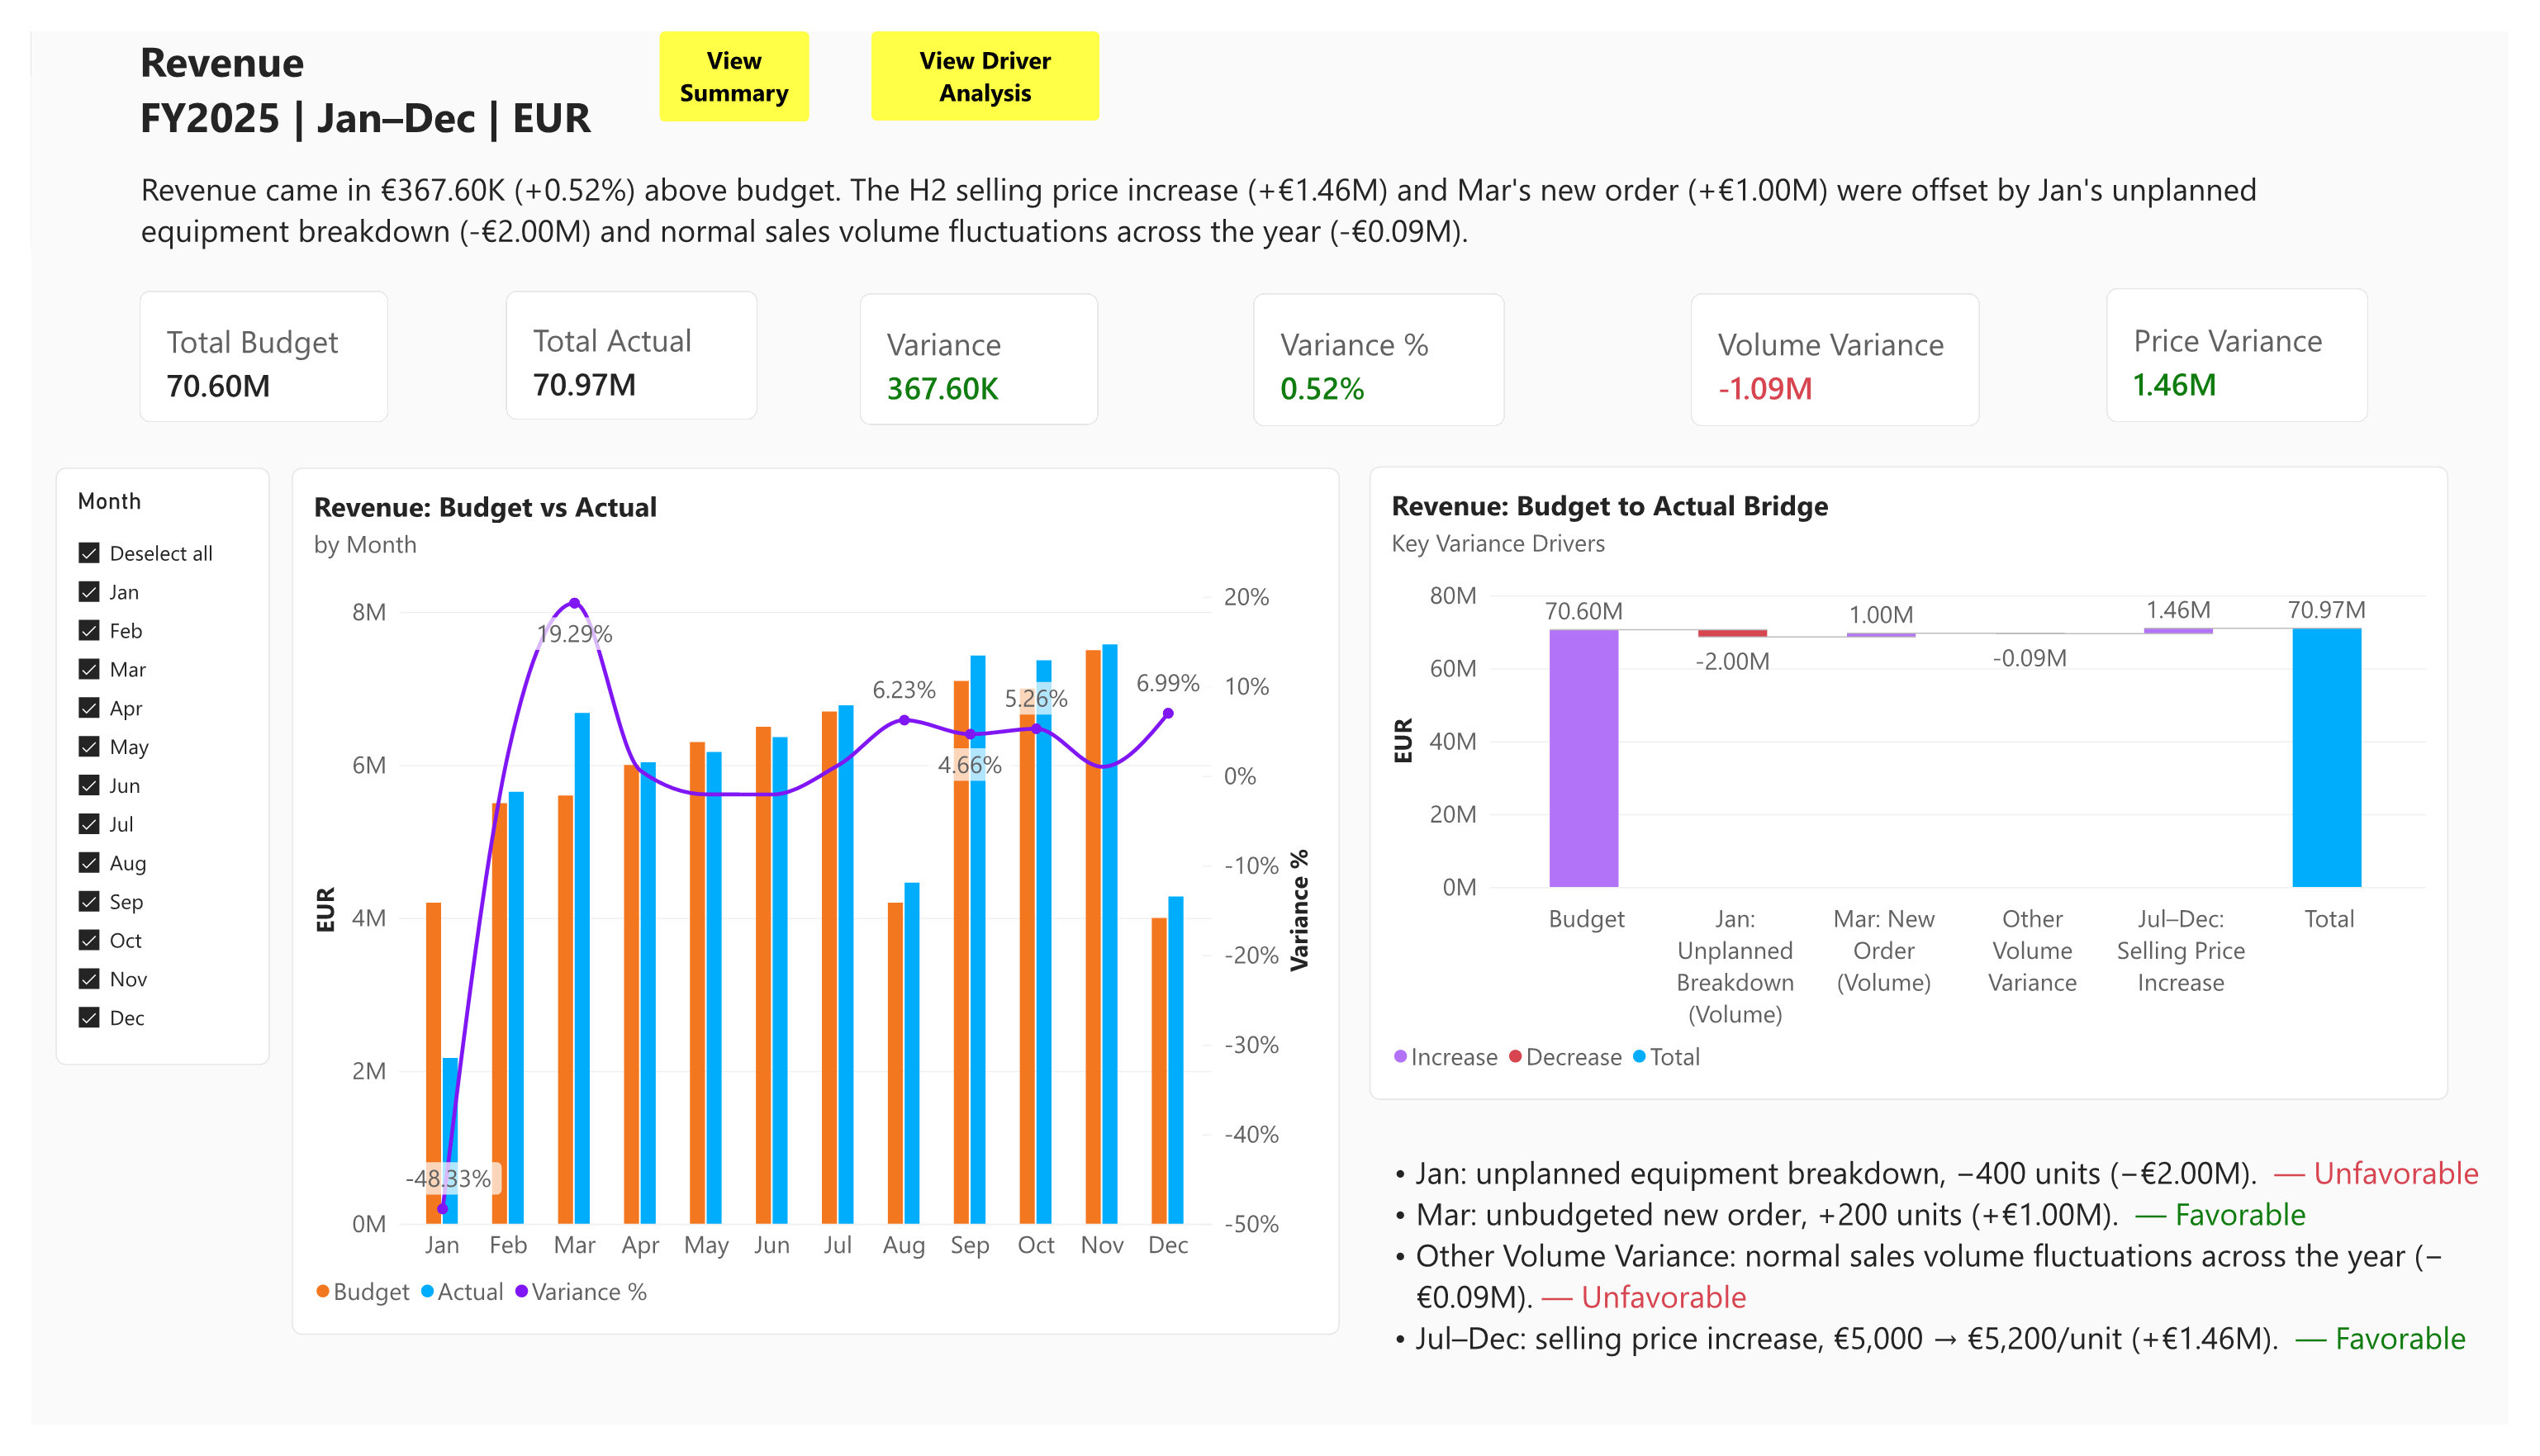

This screenshot's page, from the dashboard's own definition file:
{"tool":"powerbi","page":{"name":"Revenue - Overview","canvas":[1920,1080],"ordinal":2},"visuals":[{"type":"lineClusteredColumnComboChart","title":"Revenue: Budget vs Actual","fields":{"Category":["Dim_Date.MonthName"],"Y":["_Measures.Budget Revenue Amount","_Measures.Actual Revenue Amount"],"Y2":["_Measures.Revenue Variance %","_Measures.Revenue Variance % Label Threshold"]},"box":[201.7,338.3,812,671.3],"z":0},{"type":"cardVisual","fields":{"Data":["_Measures.Actual Revenue Amount"]},"box":[368.5,181,194.6,140.4],"z":1000},{"type":"textbox","box":[84.3,0,461.4,105.4],"z":2000},{"type":"cardVisual","fields":{"Data":["_Measures.Budget Revenue Amount"]},"box":[83.9,181.4,193,142],"z":3000},{"type":"cardVisual","fields":{"Data":["_Measures.Revenue Variance"]},"box":[642.4,182.6,185,142],"z":4000},{"type":"cardVisual","fields":{"Data":["_Measures.Revenue Variance %"]},"box":[947.2,182.6,194.7,143.3],"z":5000},{"type":"cardVisual","fields":{"Data":["_Measures.Revenue Volume Variance"]},"box":[1286.4,182.6,223.4,143.5],"z":6000},{"type":"cardVisual","fields":{"Data":["_Measures.Revenue Price Variance"]},"box":[1607.5,179.3,203.8,143.5],"z":7000},{"type":"listSlicer","fields":{"Values":["Dim_Date.MonthName"]},"box":[19.1,338.2,165.9,462.6],"z":8000},{"type":"textbox","box":[1037.2,866.8,880.3,189.3],"z":9000},{"type":"waterfallChart","title":"Revenue: Budget to Actual Bridge","fields":{"Category":["Revenue Bridge.Category"],"Y":["Revenue Bridge.Revenue Bridge Value"]},"box":[1036.9,337.5,835.8,490.3],"z":10000},{"type":"textbox","box":[84.5,105.3,1725.9,87.7],"z":11000},{"type":"actionButton","box":[651.4,0,176.5,69.4],"z":12000},{"type":"actionButton","box":[487.1,0,115.7,70],"z":13000}]}

Visuals, with their boxes on the page's 1920x1080 design canvas (x1, y1, x2, y2). These are canvas units, not pixel positions in the 2540x1456 screenshot, which may show the page scaled, cropped or inside an application window:
"Revenue: Budget vs Actual" lineClusteredColumnComboChart: select_region(202, 338, 1014, 1010)
cardVisual - _Measures.Actual Revenue Amount: select_region(368, 181, 563, 321)
textbox: select_region(84, 0, 546, 105)
cardVisual - _Measures.Budget Revenue Amount: select_region(84, 181, 277, 323)
cardVisual - _Measures.Revenue Variance: select_region(642, 183, 827, 325)
cardVisual - _Measures.Revenue Variance %: select_region(947, 183, 1142, 326)
cardVisual - _Measures.Revenue Volume Variance: select_region(1286, 183, 1510, 326)
cardVisual - _Measures.Revenue Price Variance: select_region(1608, 179, 1811, 323)
listSlicer - Dim_Date.MonthName: select_region(19, 338, 185, 801)
textbox: select_region(1037, 867, 1918, 1056)
"Revenue: Budget to Actual Bridge" waterfallChart: select_region(1037, 338, 1873, 828)
textbox: select_region(84, 105, 1810, 193)
actionButton: select_region(651, 0, 828, 69)
actionButton: select_region(487, 0, 603, 70)
